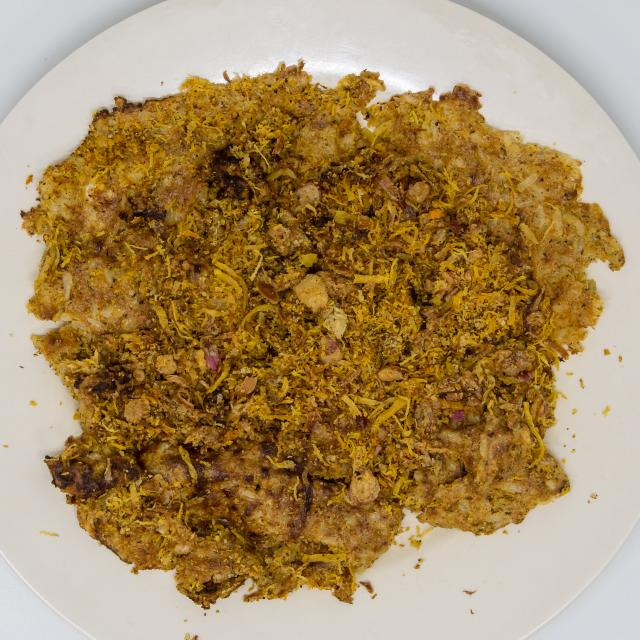Kerak-Telor: (16, 51, 630, 601)
